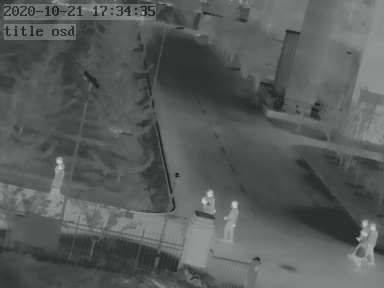person: (350, 220, 369, 269), (48, 156, 67, 204), (362, 222, 377, 266), (223, 200, 239, 241), (200, 189, 217, 215)
